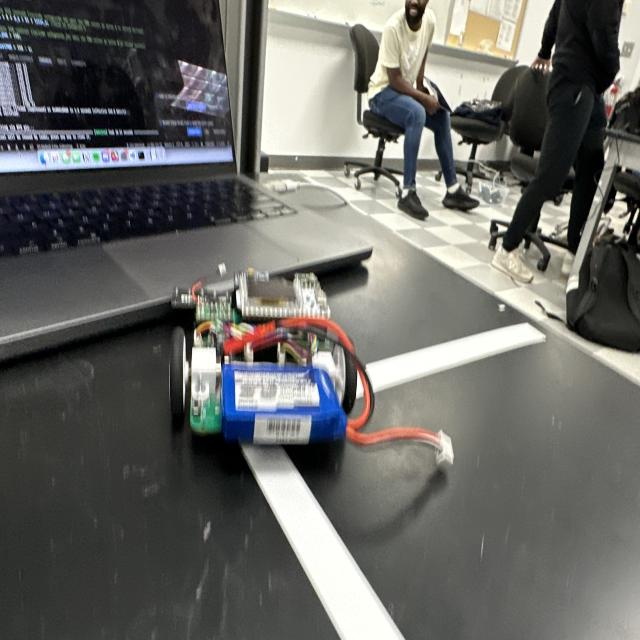robot: (168, 262, 454, 472)
